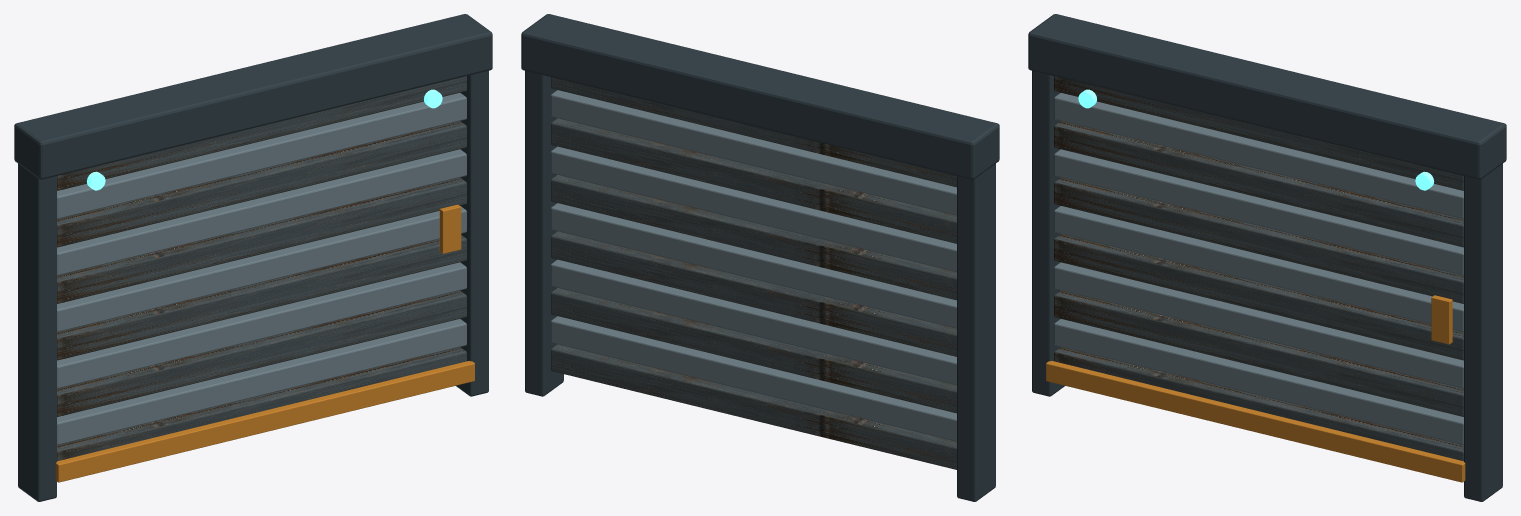
File: freight_elevator_shutter.glb
3 views of the same model, side by side, from view 1: azimuth 30°, elevation 25°; view 2: azimuth 150°, elevation 25°; view 3: azimuth 330°, elevation 25° (orthographic).
Parts seen in each view (by area): view 1: Freight shutter top motor, Freight shutter left rail, Rolling shutter slat.008, Rolling shutter slat.001, Rolling shutter slat.002, Rolling shutter slat.003, Rolling shutter slat.007, Rolling shutter slat.006, Rolling shutter slat.009, Rolling shutter slat.004, Rolling shutter slat.005, Shutter warning lip (+4 smaller); view 2: Freight shutter top motor, Freight shutter left rail, Rolling shutter slat, Rolling shutter slat.001, Rolling shutter slat.003, Rolling shutter slat.004, Rolling shutter slat.002, Rolling shutter slat.005, Rolling shutter slat.006, Rolling shutter slat.008, Rolling shutter slat.009, Rolling shutter slat.007 (+2 smaller); view 3: Freight shutter top motor, Freight shutter right rail, Rolling shutter slat.008, Rolling shutter slat.001, Rolling shutter slat.002, Rolling shutter slat.003, Rolling shutter slat.007, Rolling shutter slat.006, Rolling shutter slat.009, Rolling shutter slat.004, Rolling shutter slat.005, Shutter warning lip (+4 smaller).
Boxes of the visible parts, x1,y1,x2,y2 form: Freight shutter top motor: (14, 14, 492, 179); Freight shutter left rail: (18, 163, 56, 501); Rolling shutter slat.008: (57, 121, 466, 247); Rolling shutter slat.001: (57, 319, 466, 445); Rolling shutter slat.002: (57, 290, 466, 416); Rolling shutter slat.003: (57, 262, 466, 388); Rolling shutter slat.007: (57, 149, 466, 275); Rolling shutter slat.006: (57, 177, 466, 303); Rolling shutter slat.009: (57, 93, 466, 218); Rolling shutter slat.004: (57, 235, 466, 360); Rolling shutter slat.005: (57, 206, 466, 331); Shutter warning lip: (55, 361, 474, 482); Freight shutter top motor: (521, 14, 999, 179); Freight shutter left rail: (957, 163, 995, 501); Rolling shutter slat: (551, 344, 956, 469); Rolling shutter slat.001: (551, 316, 956, 441); Rolling shutter slat.003: (551, 259, 956, 384); Rolling shutter slat.004: (551, 231, 956, 356); Rolling shutter slat.002: (551, 288, 956, 413); Rolling shutter slat.005: (551, 203, 956, 328); Rolling shutter slat.006: (551, 174, 956, 300); Rolling shutter slat.008: (551, 118, 956, 243); Rolling shutter slat.009: (551, 90, 956, 215); Rolling shutter slat.007: (551, 146, 956, 271); Freight shutter top motor: (1028, 14, 1506, 179); Freight shutter right rail: (1464, 163, 1502, 501); Rolling shutter slat.008: (1054, 121, 1463, 247); Rolling shutter slat.001: (1054, 319, 1463, 445); Rolling shutter slat.002: (1054, 290, 1463, 416); Rolling shutter slat.003: (1054, 262, 1463, 388); Rolling shutter slat.007: (1054, 149, 1463, 275); Rolling shutter slat.006: (1054, 177, 1463, 303); Rolling shutter slat.009: (1054, 93, 1463, 218); Rolling shutter slat.004: (1054, 234, 1463, 360); Rolling shutter slat.005: (1054, 206, 1463, 331); Shutter warning lip: (1046, 361, 1465, 482).
Size of the model in its own units: 4.2 by 3.21 by 0.44.
Materials: 5 (1 with a texture image).
